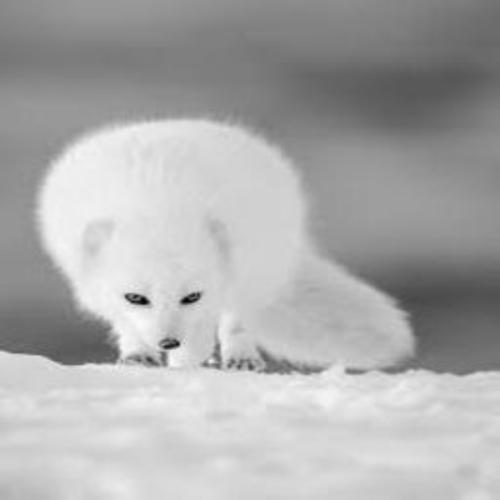arctic_fox-endangered: (34, 120, 417, 373)
